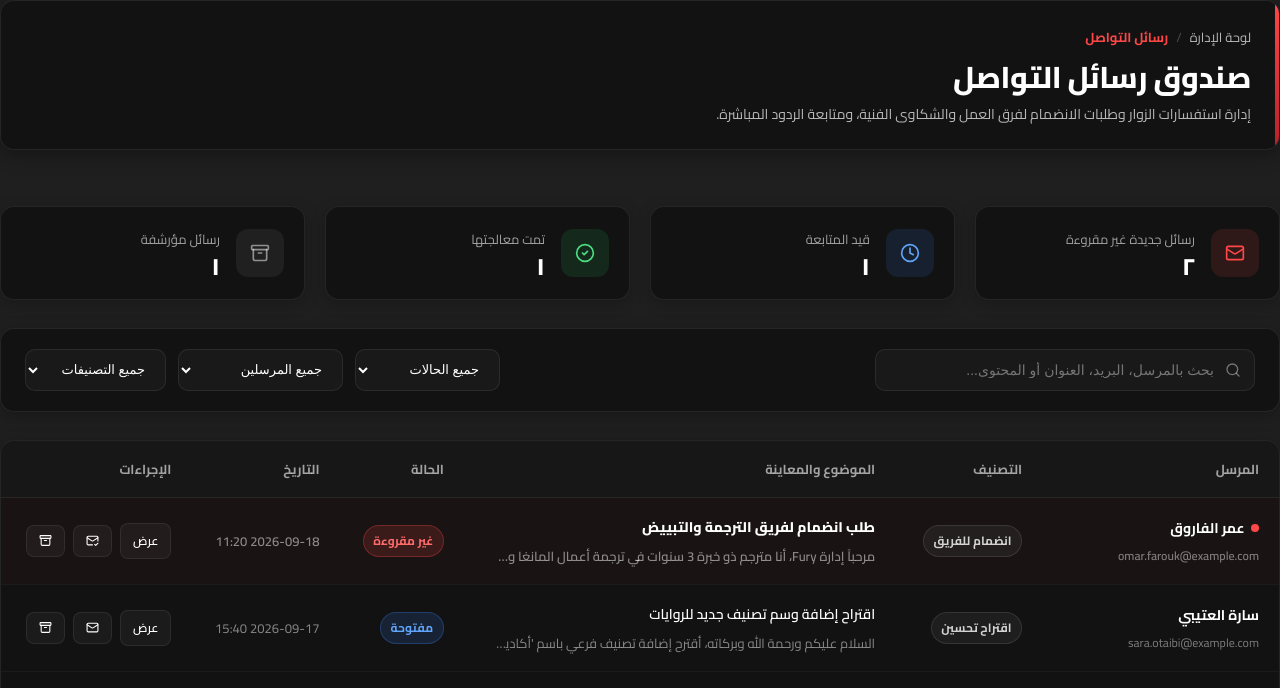
Test: AdminContact Component › filters messages by status
This screenshot has width=1280, height=688.
Select "غير مقروءة فقط" in the dropdown named "تصفية حسب الحالة" at (428, 370), box left=355, top=349, right=500, bottom=391
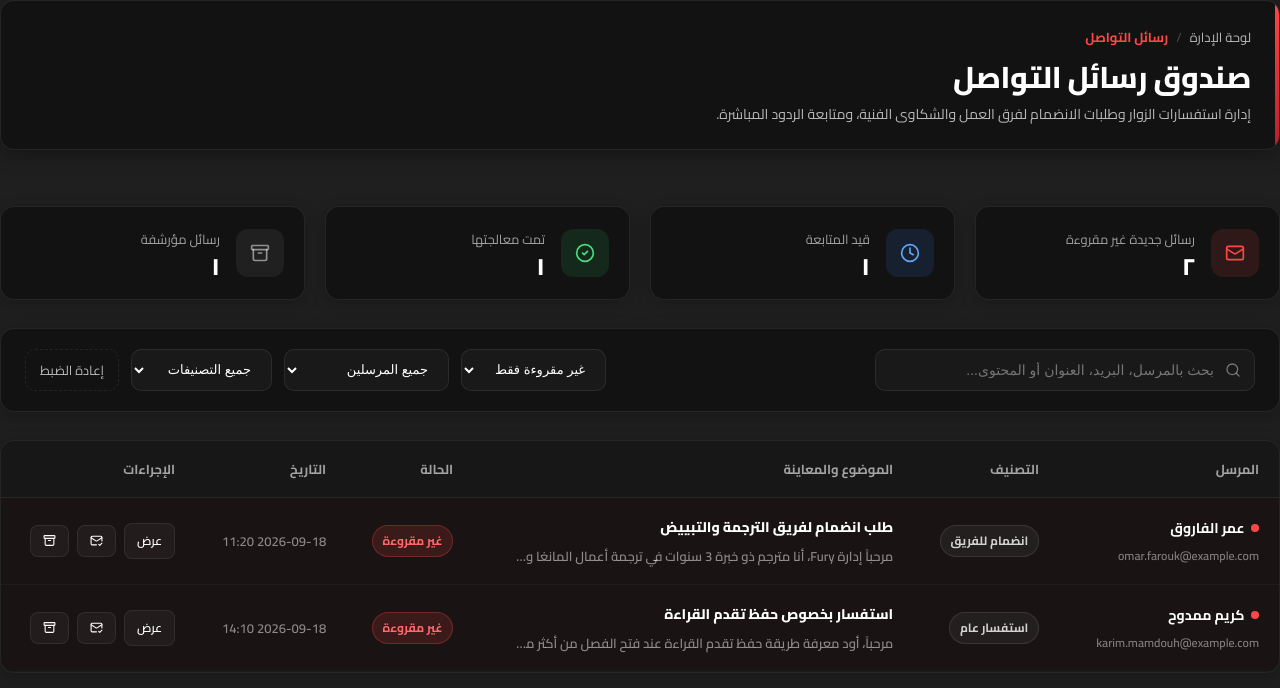
Check: the link "طلب انضمام لفريق الترجمة والتبييض" is shown, box left=660, top=514, right=893, bottom=540
Check: the link "اقتراح إضافة وسم تصنيف جديد للروايات" is gone
